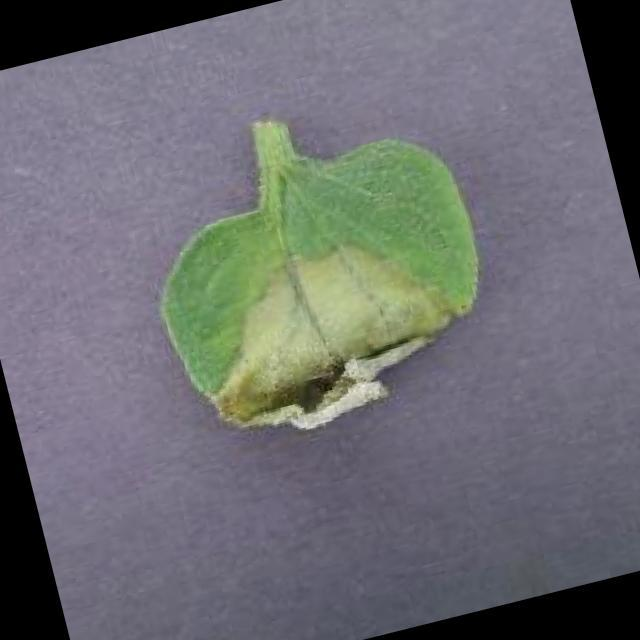Tomato late blight leaf: (128, 116, 524, 460)
